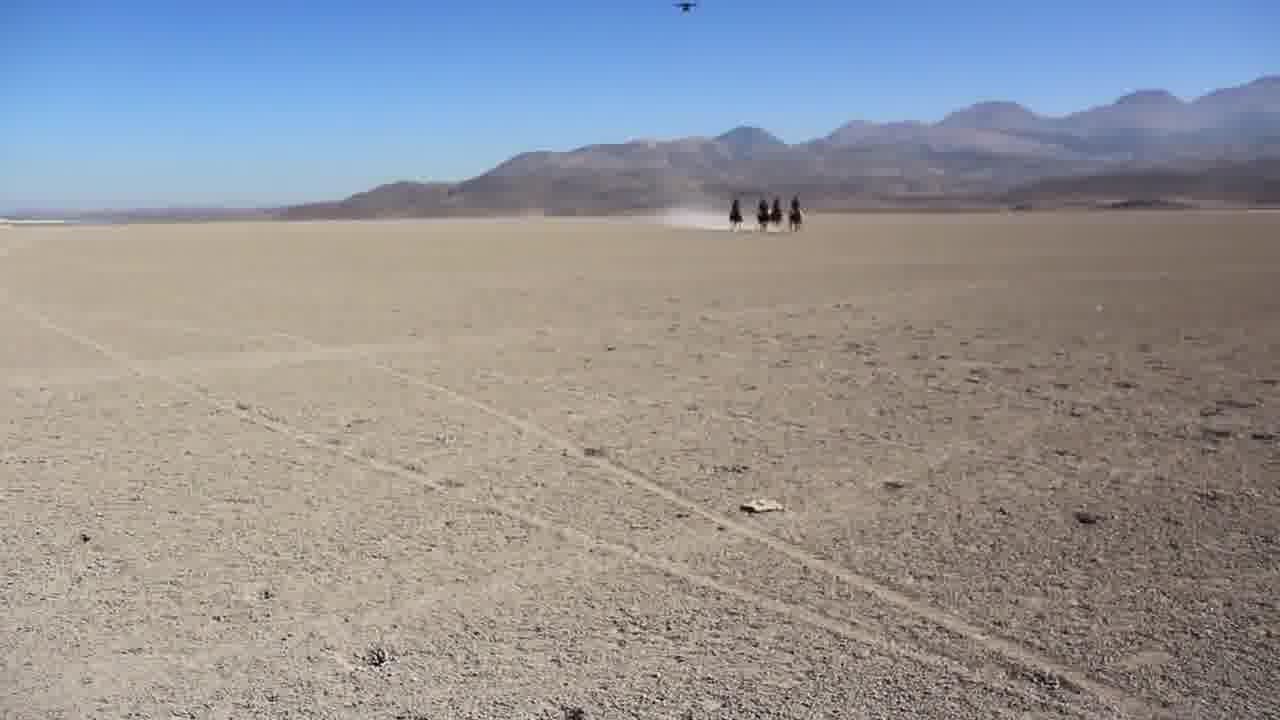drone: (671, 0, 701, 16)
